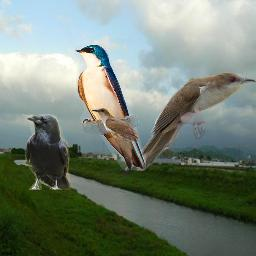Crow: (25, 114, 70, 190)
Cuckoo: (125, 72, 256, 171), (90, 108, 138, 143)
Swallow: (75, 44, 146, 170)
